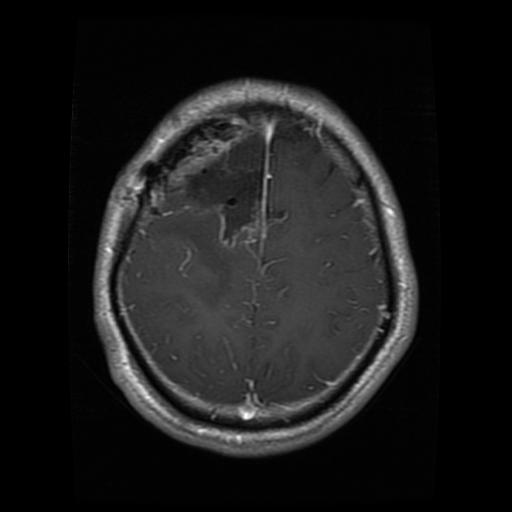Gliomia_tumour: (181, 131, 290, 243)
